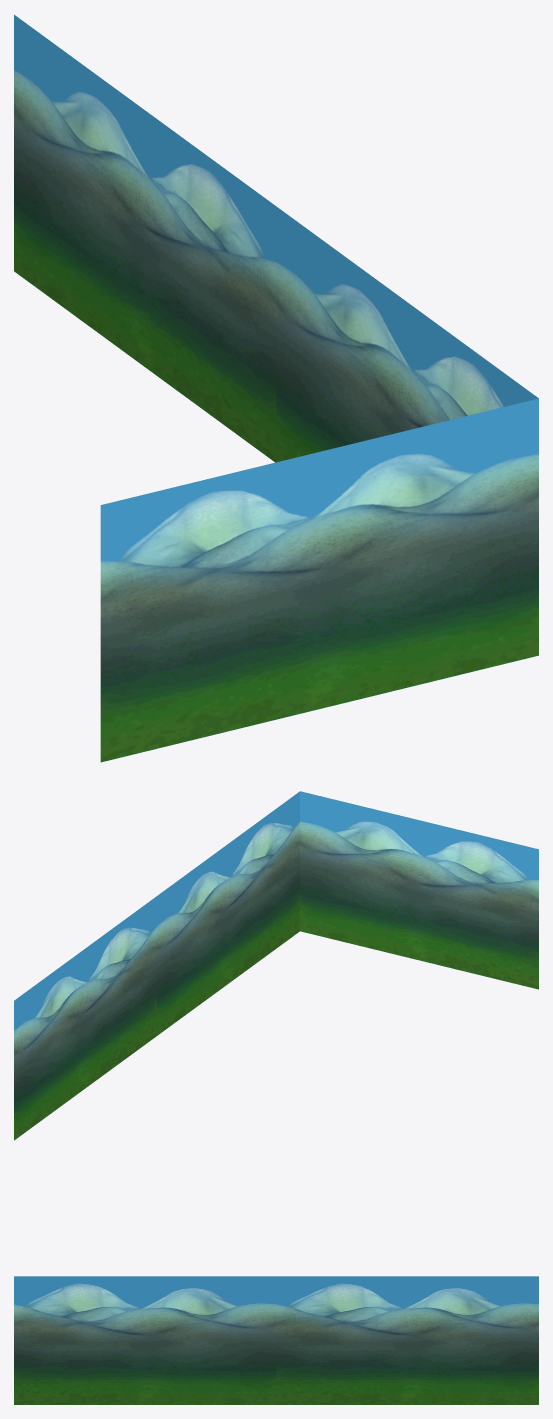
The model's file is 2D_Trees_04.glb.
The picture shows the model from 3 angles, top to bottom: view 1: azimuth 30°, elevation 25°; view 2: azimuth 150°, elevation 25°; view 3: azimuth 270°, elevation 25°; orthographic projection. The views are drawn at different scales.
Visible parts, largest first — view 1: 2D_Trees_04; view 2: 2D_Trees_04; view 3: 2D_Trees_04.
Part boxes in pixels (bbox=[...]): 2D_Trees_04: bbox=[14, 14, 538, 762]; 2D_Trees_04: bbox=[14, 791, 538, 1140]; 2D_Trees_04: bbox=[14, 1276, 538, 1404].
Bounding box in the file's own units: 4147 × 2327 × 8604.
Materials: 1 (1 with a texture image).
